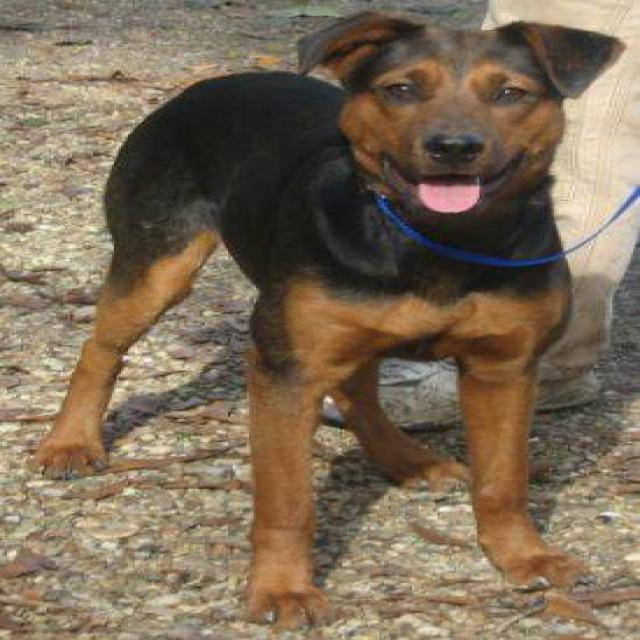dog: (19, 9, 626, 634)
